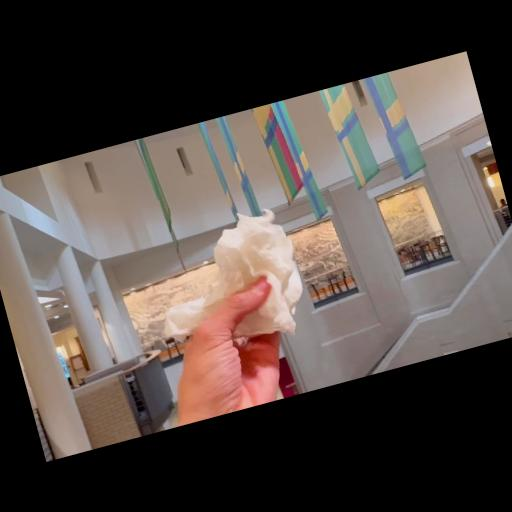napkin: (137, 197, 319, 369)
